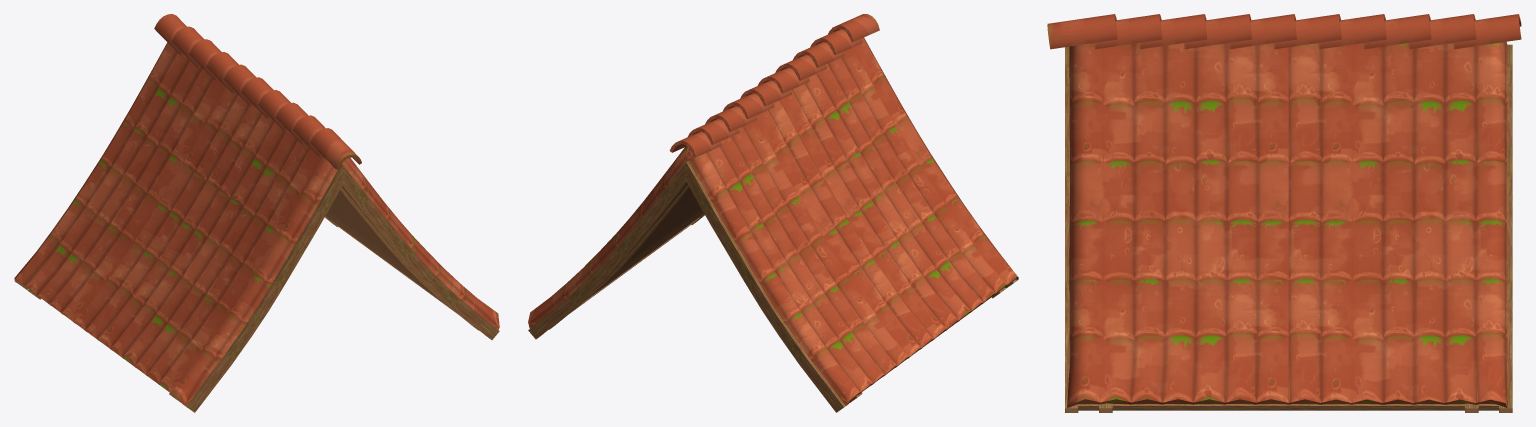
The model's file is Roof_RoundTiles_6x6.glb.
3 views of the same model, side by side, from view 1: azimuth 30°, elevation 25°; view 2: azimuth 150°, elevation 25°; view 3: azimuth 270°, elevation 25° (orthographic). The views are drawn at different scales.
Parts seen in each view (by area): view 1: Roof_RoundTiles_6x6; view 2: Roof_RoundTiles_6x6; view 3: Roof_RoundTiles_6x6.
Part boxes in pixels (x1=…): Roof_RoundTiles_6x6: x1=14, y1=14, x2=499, y2=412; Roof_RoundTiles_6x6: x1=528, y1=14, x2=1018, y2=412; Roof_RoundTiles_6x6: x1=1047, y1=14, x2=1521, y2=412.
Size of the model in its own units: 8.25 by 5.67 by 8.03.
Materials: 2 (2 with a texture image).
